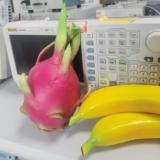pitaya: (20, 3, 81, 132)
